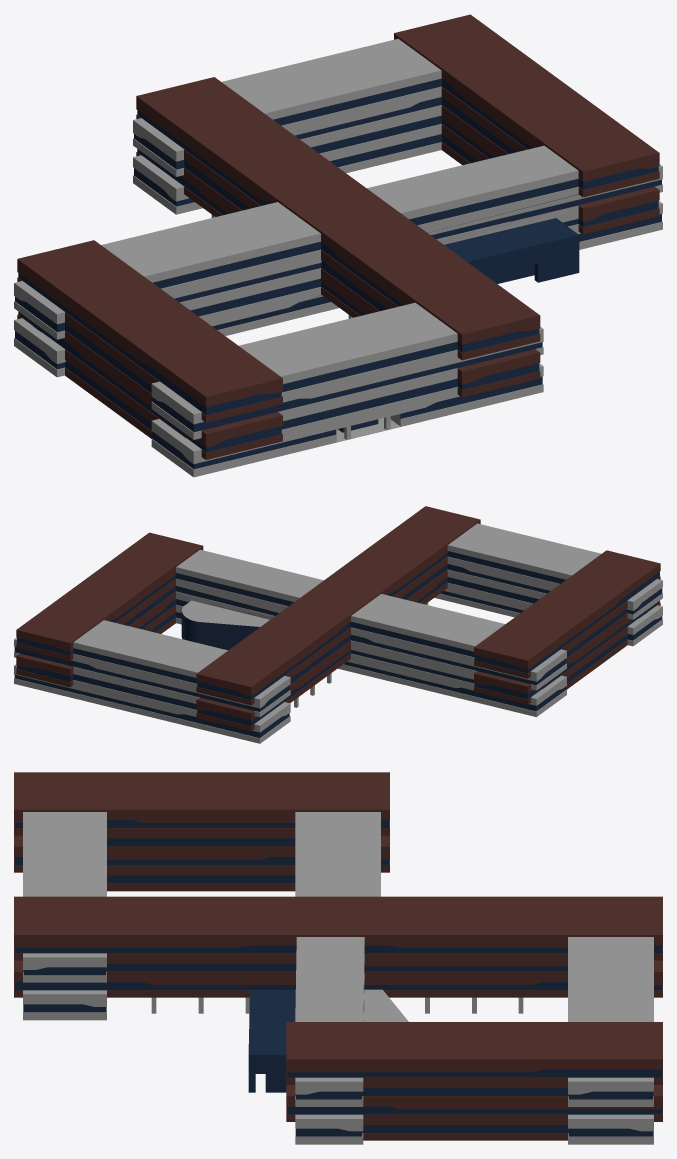
The model's file is Xinxi.fbx.
3 renders of one model, top to bottom at view 1: azimuth 30°, elevation 25°; view 2: azimuth 150°, elevation 25°; view 3: azimuth 270°, elevation 25°, orthographic. The views are drawn at different scales.
Visible parts, largest first — view 1: polySurface11, W1, polySurface6, polySurface2, polySurface4, polySurface13, polySurface15, D1; view 2: polySurface11, W1, polySurface6, polySurface2, polySurface15, polySurface13, polySurface4, Hall1; view 3: polySurface11, polySurface13, W1, polySurface2, polySurface6, polySurface15, polySurface4, D1, Hall1.
Boxes of the visible parts, x1,y1,x2,y2 form: polySurface11: [136, 77, 540, 397]; W1: [15, 78, 661, 469]; polySurface6: [14, 145, 662, 377]; polySurface2: [17, 240, 282, 459]; polySurface4: [151, 302, 543, 477]; polySurface13: [394, 14, 659, 234]; polySurface15: [133, 38, 441, 214]; D1: [444, 218, 579, 283]; polySurface11: [196, 506, 480, 731]; W1: [14, 551, 662, 737]; polySurface6: [176, 549, 566, 716]; polySurface2: [474, 550, 660, 704]; polySurface15: [14, 620, 290, 743]; polySurface13: [16, 532, 203, 687]; polySurface4: [434, 523, 662, 646]; Hall1: [181, 600, 269, 650]; polySurface11: [14, 896, 662, 997]; polySurface13: [286, 1022, 662, 1140]; W1: [14, 820, 662, 1136]; polySurface2: [14, 772, 389, 891]; polySurface6: [295, 812, 380, 1144]; polySurface15: [568, 937, 653, 1144]; polySurface4: [23, 812, 106, 1020]; D1: [248, 989, 295, 1092]; Hall1: [364, 989, 408, 1021].
Bounding box in the file's own units: 34.08 × 4.4 × 31.74.
